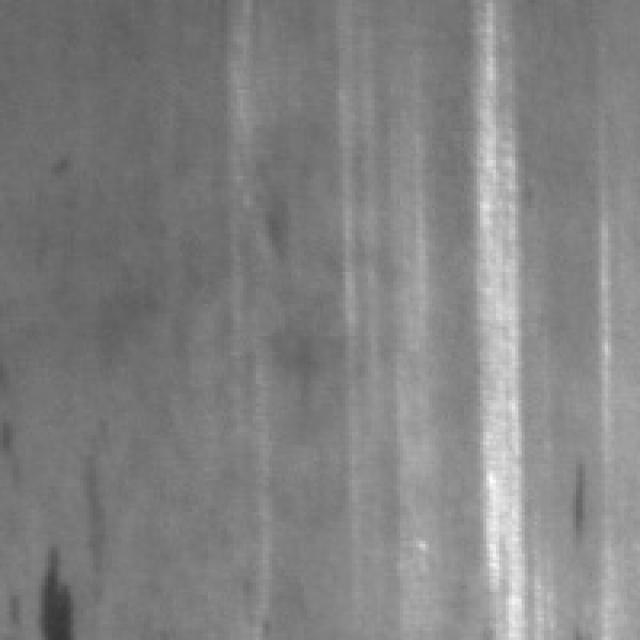inclusion: (35, 538, 90, 636)
scratches: (355, 96, 451, 611), (477, 3, 531, 634)
